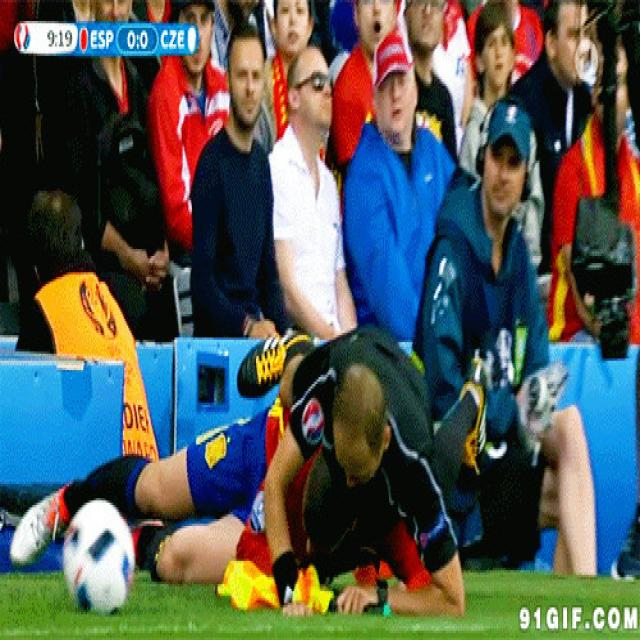10-: (0, 0, 639, 638)
down: (8, 386, 457, 624), (237, 305, 468, 614)
